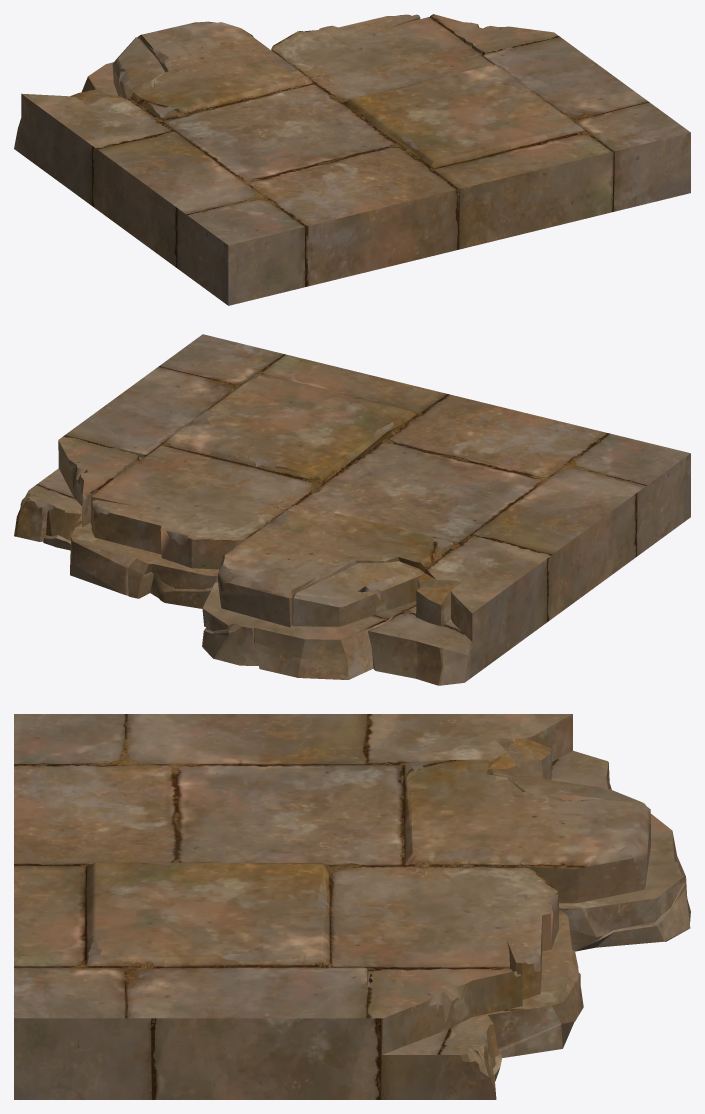
The picture shows the model from 3 angles, top to bottom: view 1: azimuth 30°, elevation 25°; view 2: azimuth 150°, elevation 25°; view 3: azimuth 270°, elevation 25°; orthographic projection. The views are drawn at different scales.
Parts seen in each view (by area): view 1: SM_Vault_4m_Floor_Dmg_01v1_LOD0; view 2: SM_Vault_4m_Floor_Dmg_01v1_LOD0; view 3: SM_Vault_4m_Floor_Dmg_01v1_LOD0.
Boxes of the visible parts, <box> form: SM_Vault_4m_Floor_Dmg_01v1_LOD0: <box>14,14,690,305</box>; SM_Vault_4m_Floor_Dmg_01v1_LOD0: <box>14,334,690,685</box>; SM_Vault_4m_Floor_Dmg_01v1_LOD0: <box>14,714,690,1099</box>.
Bounding box in the file's own units: 4 × 0.5518 × 3.76.
1 material, 1 textured.
